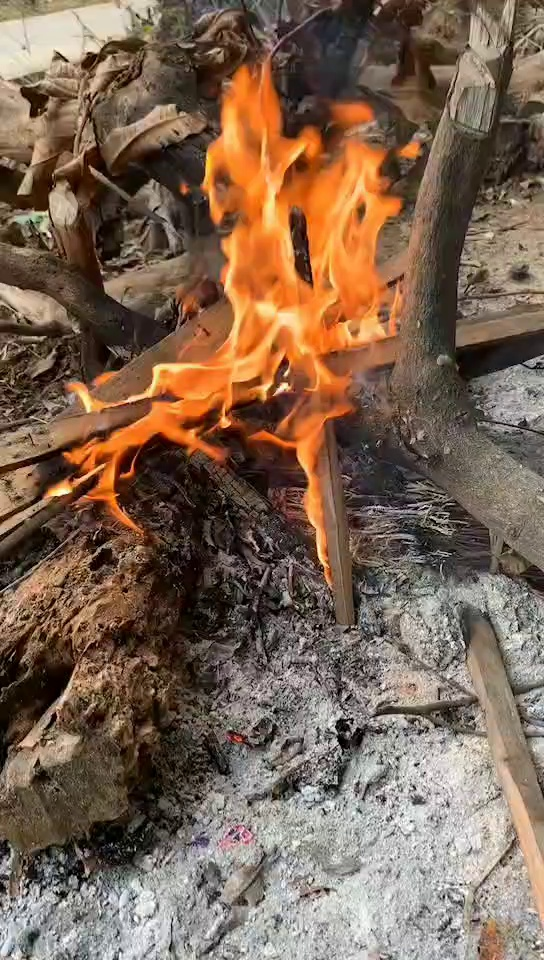fire: (171, 99, 402, 387), (44, 337, 325, 505)
